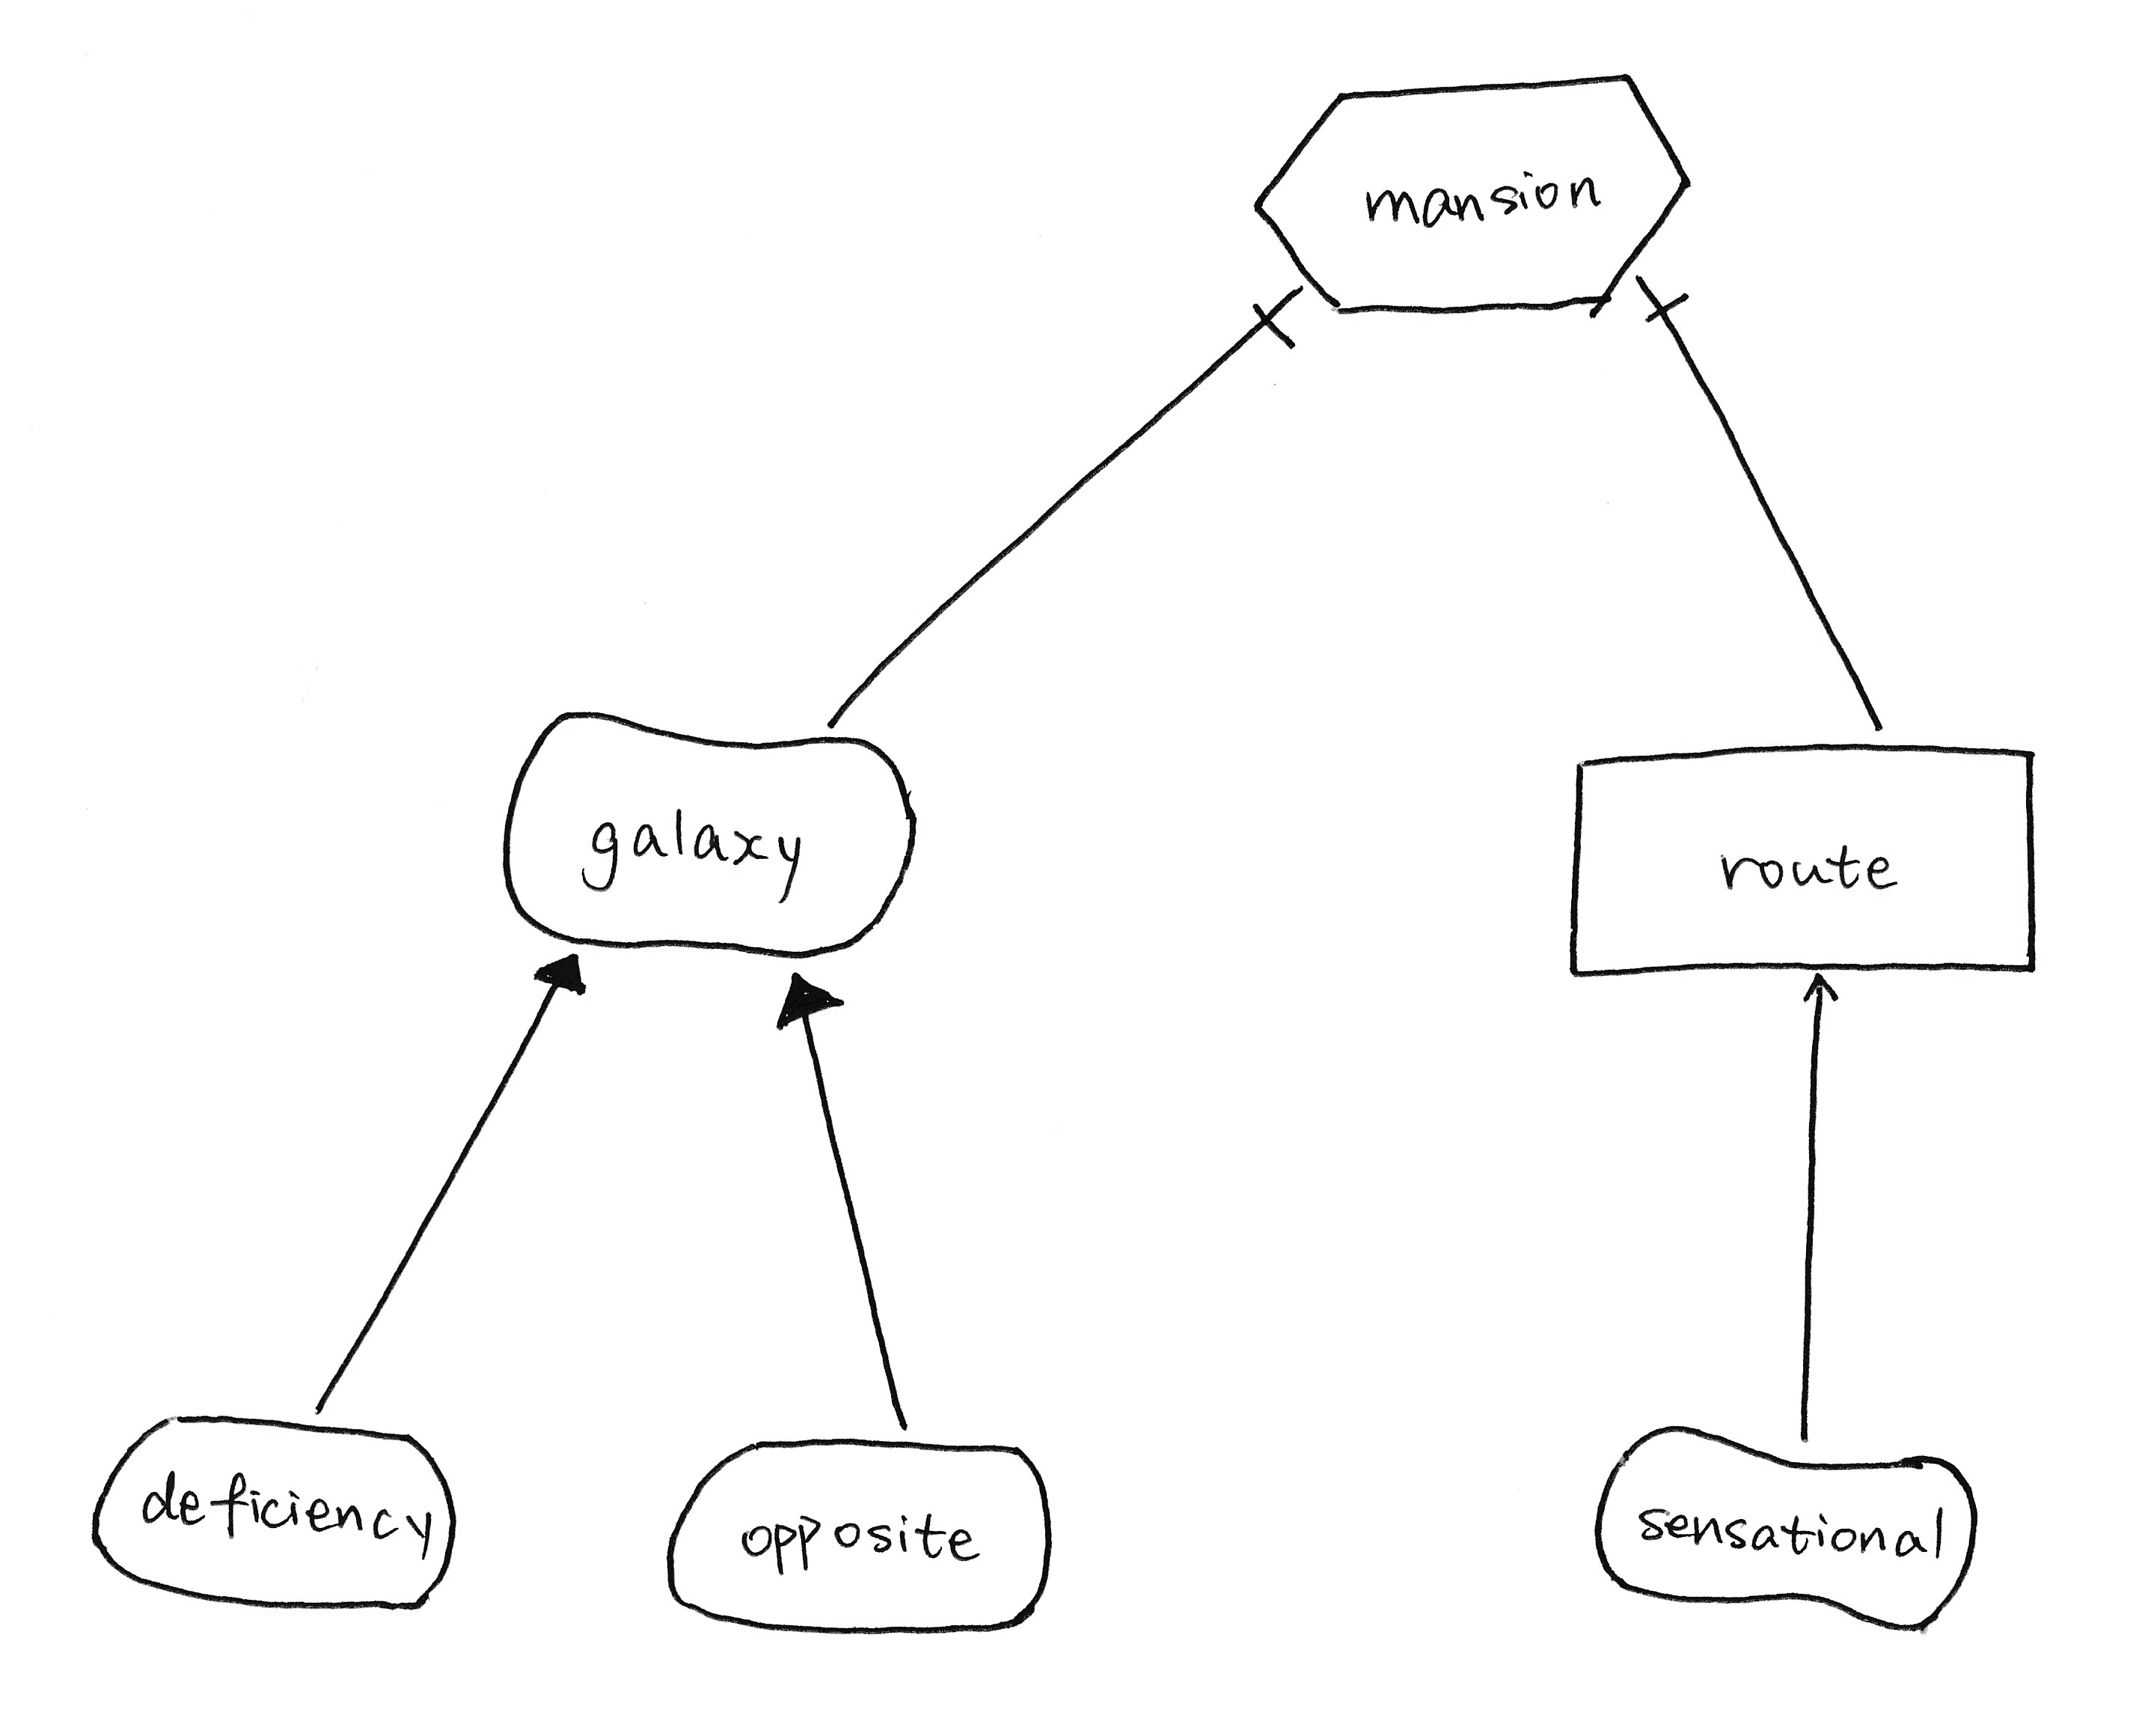and: (1237, 269, 1317, 368), (1609, 252, 1700, 331)
arrow: (1786, 955, 1861, 1024)
goal: (644, 1414, 1075, 1656), (76, 1392, 476, 1626)
or: (761, 949, 866, 1040), (512, 941, 607, 1013)
quality: (482, 691, 933, 990), (1576, 1407, 1997, 1653)
resource: (1544, 719, 2055, 1001)
task: (1232, 55, 1705, 340)
